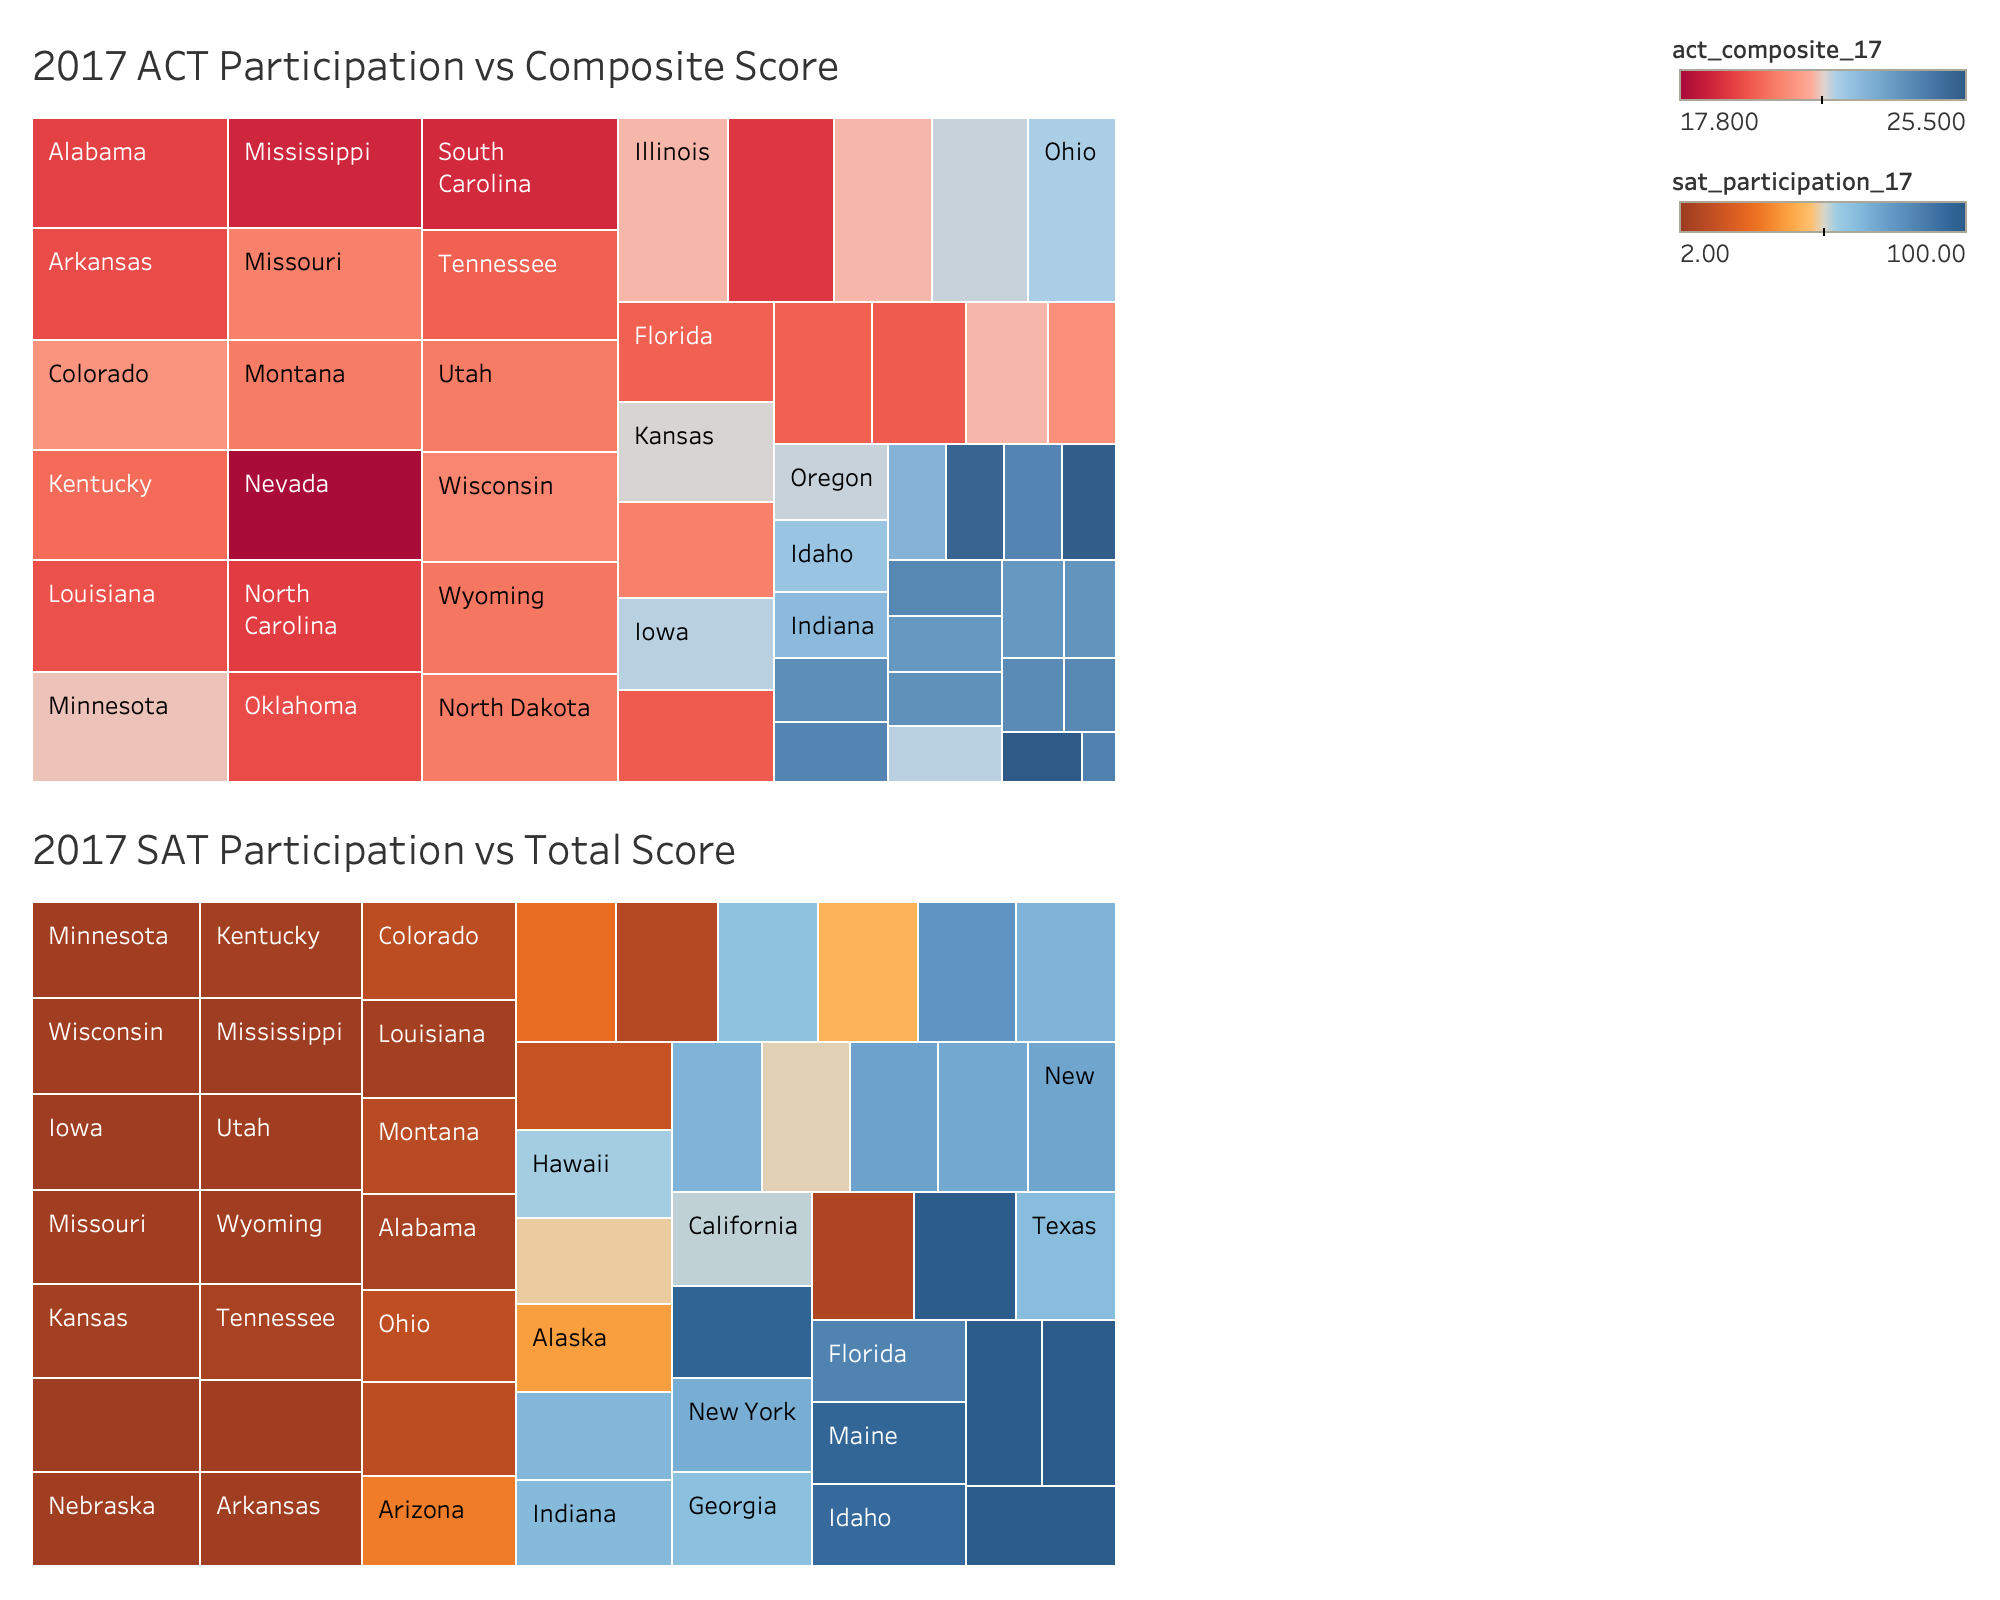

The page's visual inventory and layout, read from the dashboard file:
{"tool":"tableau","page":{"name":"P vs C/TS ","canvas":[1000,800],"ordinal":1},"visuals":[{"type":"worksheet","title":"2017 ACT P vs CS","mark":"Automatic","box":[8,8,824,392]},{"type":"legend","title":"2017 ACT P vs CS","param":"[federated.1d2s1vw1xznzpn19oecfz0ajiksc].[sum:act_composite_17:qk]","box":[832,8,160,65]},{"type":"legend","title":"2017 SAT P vs TS","param":"[federated.1d2s1vw1xznzpn19oecfz0ajiksc].[sum:sat_participation_17:qk]","box":[832,73,160,65]},{"type":"worksheet","title":"2017 SAT P vs TS","mark":"Automatic","box":[8,400,824,392]}]}

Visuals, with their boxes in screenshot pixels (x1, y1, x2, y2), scaled from the page's 1000x800 canvas onto the 2000x1600 screenshot:
"2017 ACT P vs CS" worksheet: bbox=[16, 16, 1664, 800]
"2017 ACT P vs CS" legend: bbox=[1664, 16, 1984, 146]
"2017 SAT P vs TS" legend: bbox=[1664, 146, 1984, 276]
"2017 SAT P vs TS" worksheet: bbox=[16, 800, 1664, 1584]
